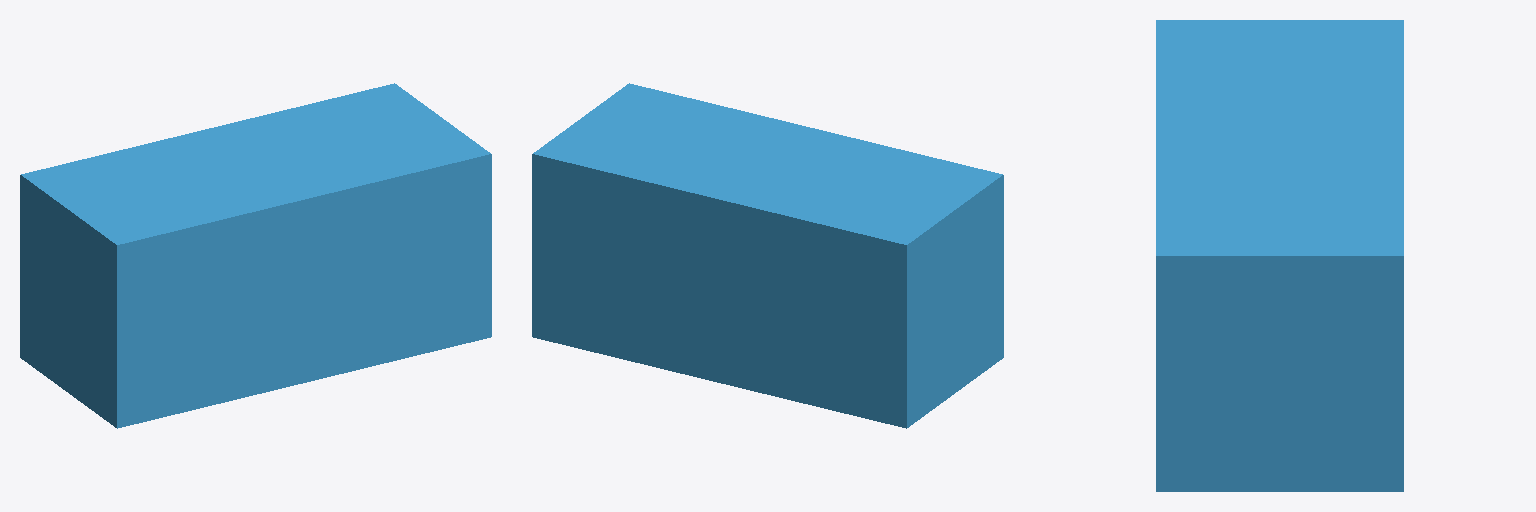
robot.urdf — hd465_7:
<?xml version="1.0"?>
<robot name="hd465_7">
  <property name="M_PI" value="3.14159274"/>

  <link name="base_link"/>
  <joint name="base_link_joint" type="fixed">
    <parent link="base_link"/>
    <child link="car_link"/>
    <origin xyz="0 0 4.4" rpy="0 0 0"/>
  </joint>

  <link name="car_link">
    <visual>
      <geometry>
     	<box size="9.4 4.2 4.4"/>
      </geometry>
    </visual>

    <collision>
      <geometry>
	<box size="9.4 4.2 4.4"/>
      </geometry>
    </collision>

    <inertial>
      <origin xyz="0 0 0"/>
      <mass value="0.03"/>
      <inertia ixx="1.0" ixy="0.0" ixz="0.0"
               iyy="1.0" iyz="0.0"
               izz="1.0"/>
    </inertial>
  </link>

  <!-- gazebo -->
  <!--

<gazebo>
<plugin name="gazebo_ros_control" filename="libgazebo_ros_control.so">
<robotNamespace>hd465_7</robotNamespace>
</plugin>
</gazebo>

<gazebo reference="base_link">
<selfCollide>true</selfCollide>
<mu1 value="0.5" />
<mu2 value="0.5" />
</gazebo>

  -->

  <!-- depth camera-->

  <!--

<link name="pico_flexx_link_optical_frame" />
<link name="pico_flexx_depth_frame"/>
<link name="pico_flexx_link">
<visual>
<geometry>
<box size="0.007 0.066 0.016"/>
</geometry>
<material name="green"/>
</visual>
<collision>
<geometry>
<box size="0.007 0.066 0.016"/>
</geometry>
</collision>
<inertial>
<origin xyz="0 0 0" rpy="0 0 0"/>
<mass value="1"/>
<inertia
ixx="1.0" ixy="0.0" ixz="0.0"
iyy="1.0" iyz="0.0"
izz="1.0"/>
</inertial>
</link>

<joint name="pico_flexx_base_joint" type="fixed">
<origin xyz="0 0 1.0" rpy="0 0 0"/>
<parent link="base_link"/>
<child link="pico_flexx_link_optical_frame"/>
</joint>

<joint name="pico_flexx_depth_joint" type="fixed">
<origin xyz="0 0 0" rpy="-1.5708 0 -1.5708" />
<parent link="pico_flexx_link_optical_frame" />
<child link="pico_flexx_depth_frame" />
</joint>

<joint name="pico_flexx_joint" type="fixed">
<origin xyz="0 0 0" rpy="0 0 0"/>
<parent link="pico_flexx_link_optical_frame"/>
<child link="pico_flexx_link"/>
</joint>

  -->

  <!-- gazebo camera plugin -->

  <!--

<gazebo reference="pico_flexx_link">
<sensor type="depth" name="pico_flexx_ir_sensor">
<always_on>true</always_on>
<update_rate>0.0</update_rate>
<camera>
<horizontal_fov>${57.0*M_PI/180.0}</horizontal_fov>
<image>
<format>L8</format>
<width>640</width>
<height>480</height>
</image>
<clip>
<near>0.5</near>
<far>3.0</far>
</clip>
</camera>

<plugin name="pico_flexx_link_controller" filename="libgazebo_ros_openni_kinect.so">
<alwaysOn>true</alwaysOn>
<updateRate>1.0</updateRate>
<cameraName>pico_flexx_link_ir</cameraName>
<depthImageTopicName>/pico_flexx_link/depth_registered/image_raw</depthImageTopicName>
<depthImageCameraInfoTopicName>/pico_flexx_link/depth/camera_info</depthImageCameraInfoTopicName>
<pointCloudTopicName>/pico_flexx_link/points</pointCloudTopicName>
<frameName>pico_flexx_depth_frame</frameName>
<pointCloudCutoff>0.5</pointCloudCutoff>
<distortionK1>0.00000001</distortionK1>
<distortionK2>0.00000001</distortionK2>
<distortionK3>0.00000001</distortionK3>
<distortionT1>0.00000001</distortionT1>
<distortionT2>0.00000001</distortionT2>
</plugin>
</sensor>
<material value="Gazebo/Blue" />
</gazebo>

  -->

</robot>

--- Facts derived from the render (not from the file) ---
3 views of the same robot in one strip: view 1: azimuth 30°, elevation 25°; view 2: azimuth 150°, elevation 25°; view 3: azimuth 270°, elevation 25° (orthographic).
Model hd465_7 with 2 links and 1 joints (1 fixed), rooted at base_link, posed all joints at 0.
Links seen in each view (by area): view 1: car_link; view 2: car_link; view 3: car_link.
Boxes of the visible links, x1,y1,x2,y2 form: car_link: (20,83,491,428); car_link: (532,83,1003,428); car_link: (1156,20,1403,491).
Bounding box of the posed robot: 9.4 × 4.2 × 4.4 m (x, y, z).
Geometry: primitives only (box / cylinder / sphere), no mesh files.
